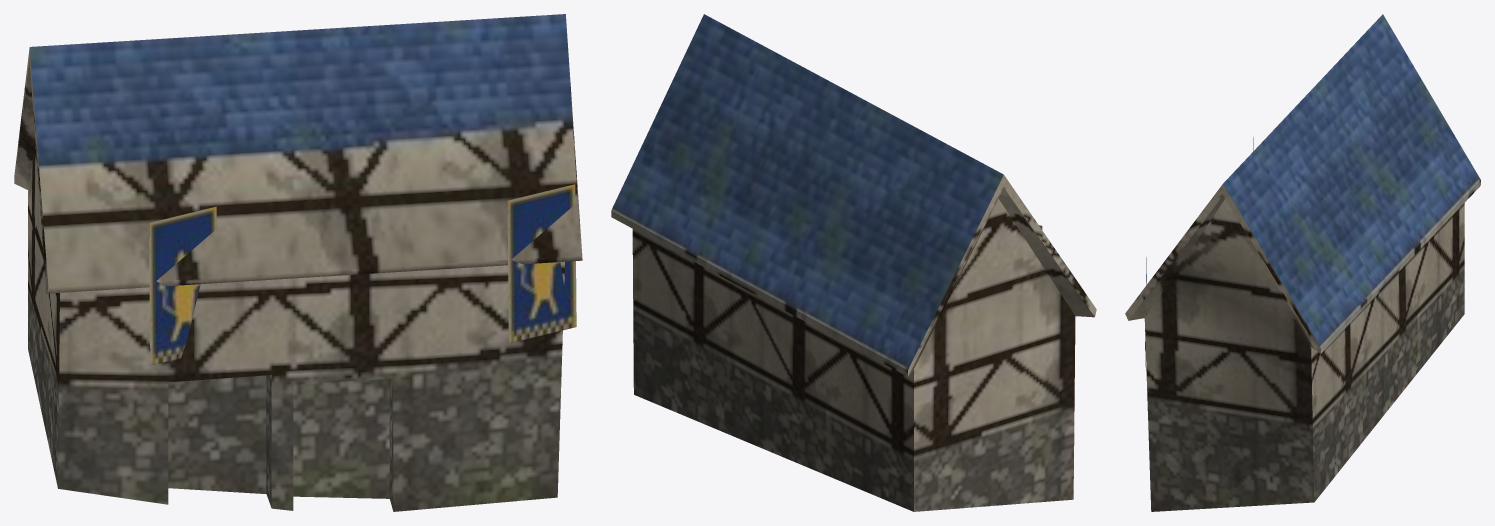
The model's file is house_08_card_lod2.glb.
3 views of the same model, side by side, from view 1: azimuth 30°, elevation 25°; view 2: azimuth 150°, elevation 25°; view 3: azimuth 270°, elevation 25° (orthographic). The views are drawn at different scales.
Parts seen in each view (by area): view 1: house_08_game_card; view 2: house_08_game_card; view 3: house_08_game_card.
Part boxes in pixels (x1,y1,x2,y2): house_08_game_card: (14, 14, 582, 511); house_08_game_card: (611, 14, 1096, 511); house_08_game_card: (1125, 14, 1480, 511).
Size of the model in its own units: 10.77 by 8.64 by 7.98.
Materials: 1 (1 with a texture image).
